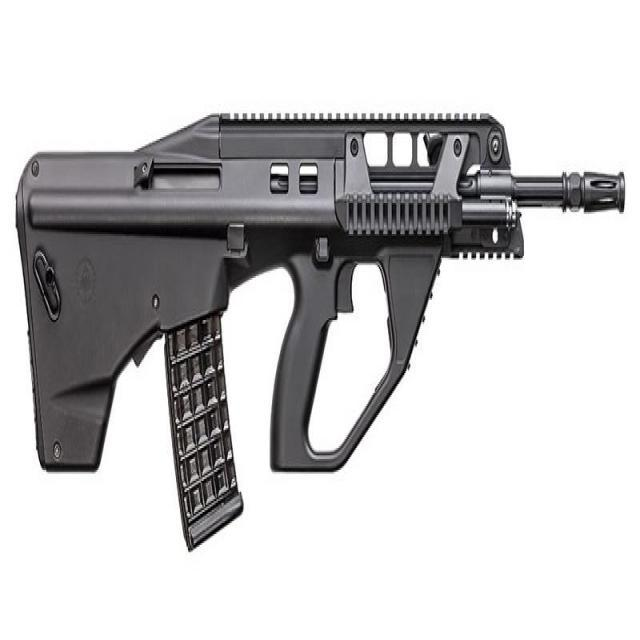rifle: (17, 94, 633, 545)
